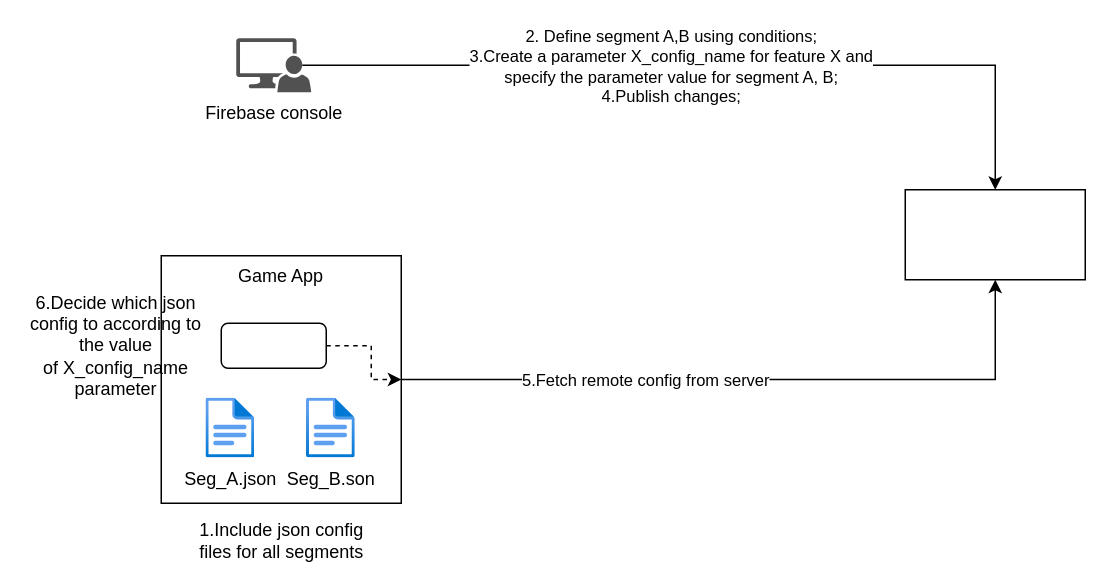
Image size: 1112x588. Some labels were removed from this diagram. Each missing label, with the centre of its shape:
Firebase SDK: the point at 273,345
Firebase Server: the point at 994,234
